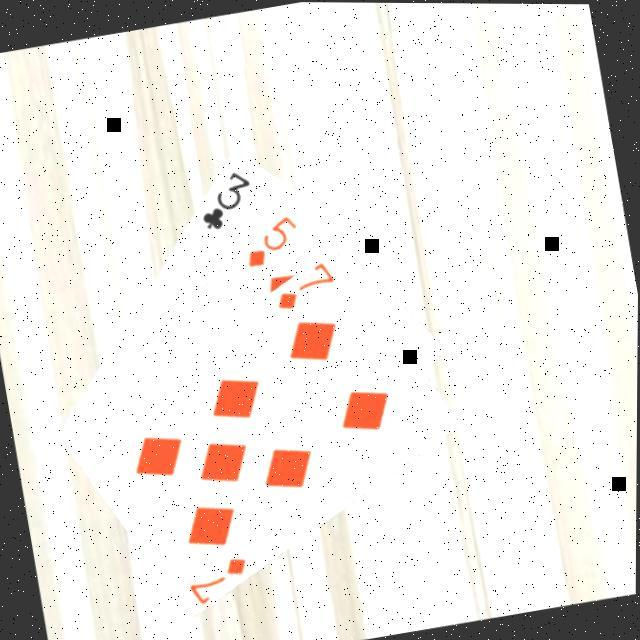3C: (188, 161, 259, 233)
5D: (233, 207, 304, 270)
7D: (265, 256, 340, 312), (179, 549, 254, 605)
